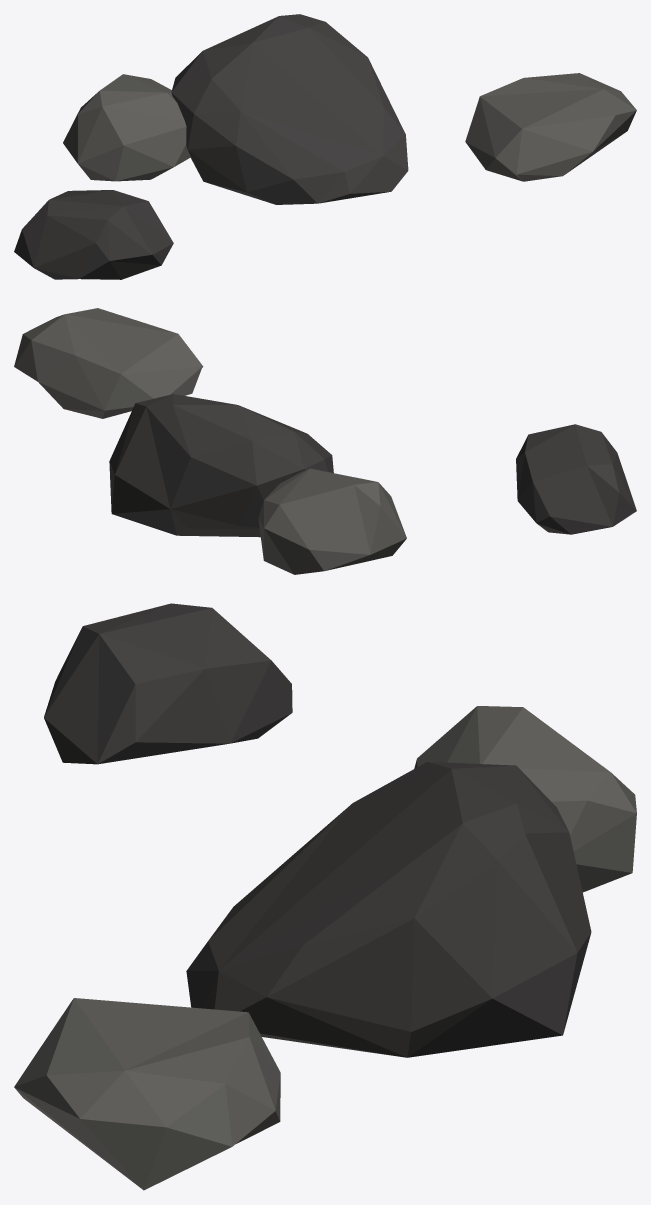
The model's file is enchanted_SM_Env_Rock_Pebbles_05.gltf.
The picture shows the model from 3 angles, top to bottom: view 1: azimuth 30°, elevation 25°; view 2: azimuth 150°, elevation 25°; view 3: azimuth 270°, elevation 25°; orthographic projection. The views are drawn at different scales.
Parts seen in each view (by area): view 1: SM_Env_Rock_Pebbles_05; view 2: SM_Env_Rock_Pebbles_05; view 3: SM_Env_Rock_Pebbles_05.
Part boxes in pixels (bbox=[...]): SM_Env_Rock_Pebbles_05: bbox=[14, 14, 636, 279]; SM_Env_Rock_Pebbles_05: bbox=[14, 308, 636, 574]; SM_Env_Rock_Pebbles_05: bbox=[14, 603, 636, 1190].
Size of the model in its own units: 1.5 by 0.2906 by 0.7651.
Materials: 1 (1 with a texture image).
